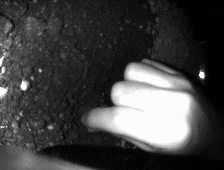corn: (18, 77, 31, 92)
